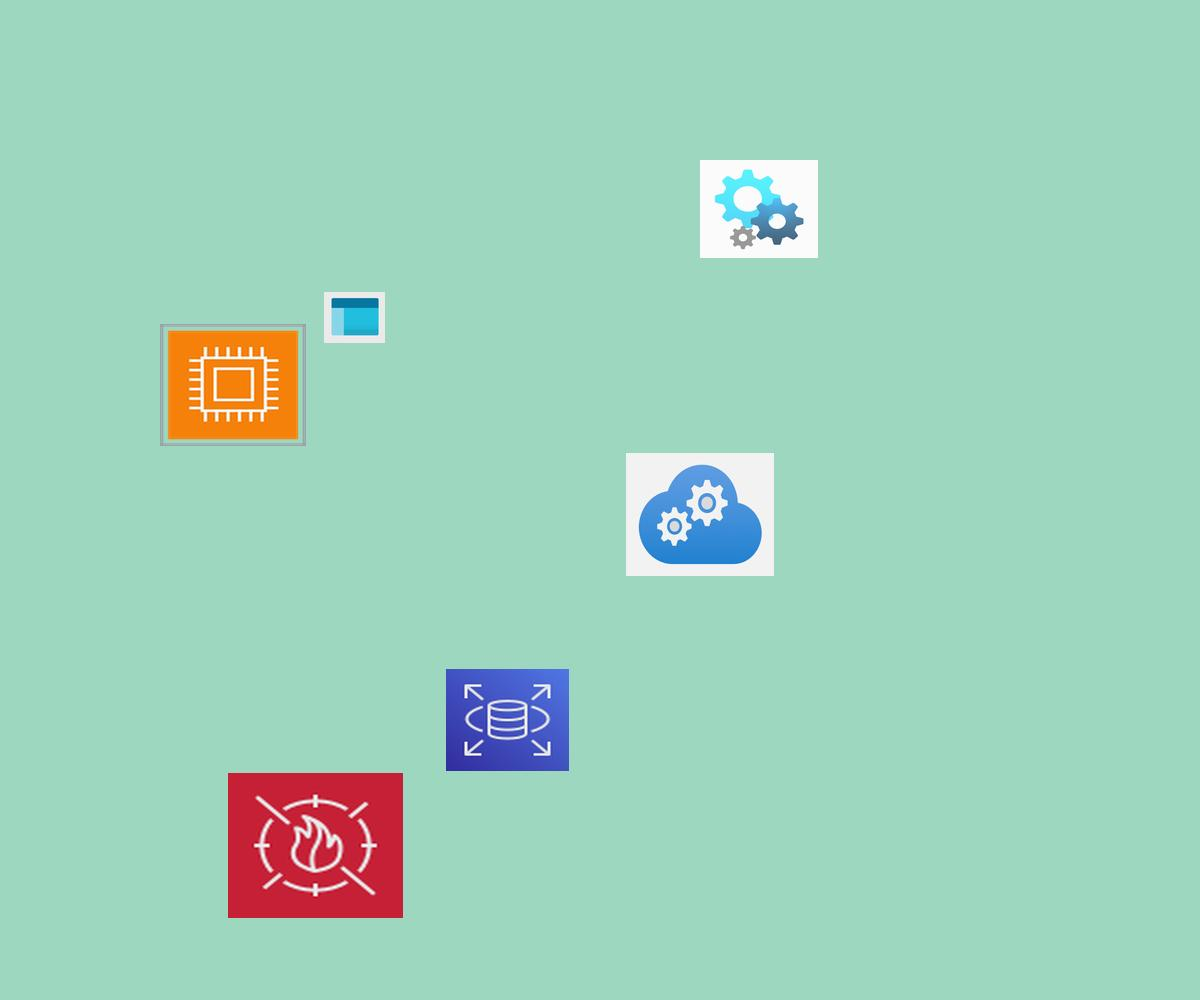AWS-Category_Compute: (160, 324, 306, 446)
AWS-RDS: (446, 669, 569, 771)
AWS-WAF: (228, 773, 403, 918)
Azure_api: (700, 160, 818, 258)
Azure_cloud_services: (626, 453, 774, 576)
Azure_management-portal: (324, 292, 385, 343)
